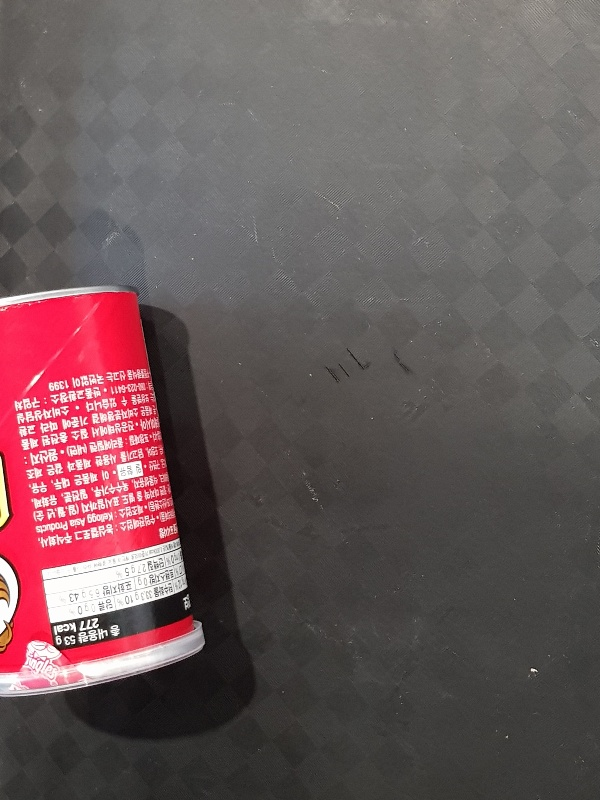Pringles Original: (1, 282, 206, 697)
